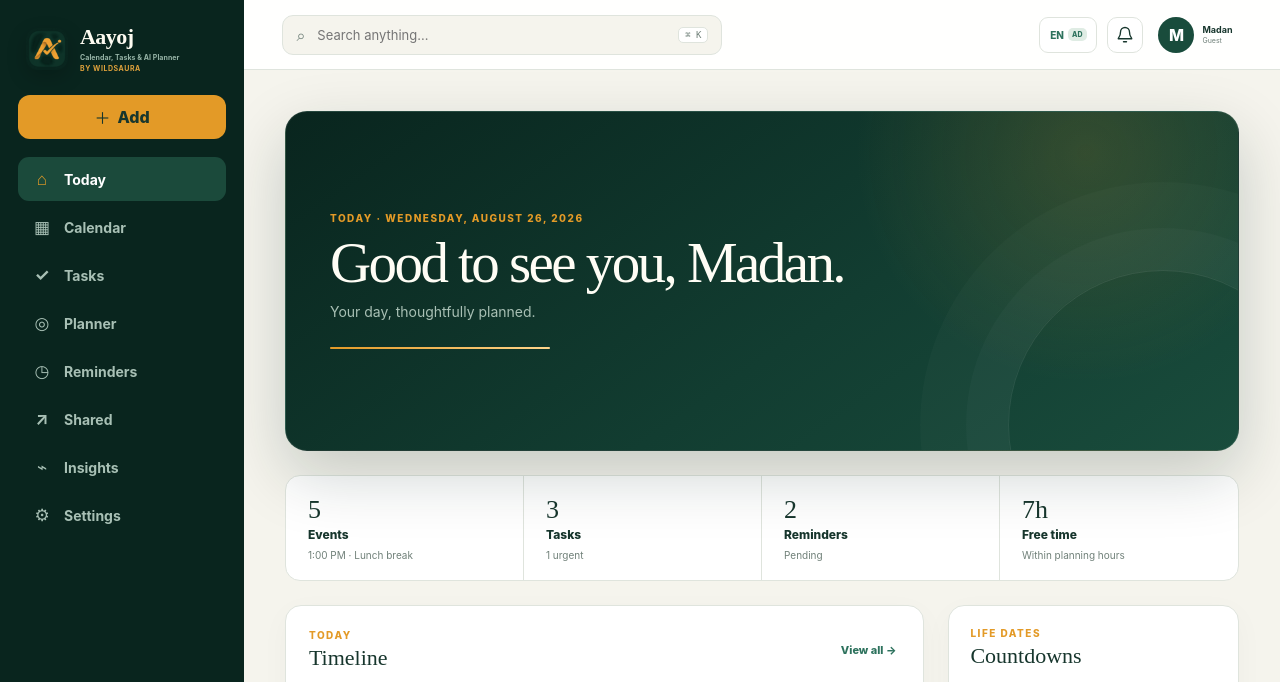
it: Aayoj application shell › opens the global quick-add confirmation flow
Click the button with class "sidebar-add" at [122, 117], box x1=18 y1=95 x2=226 y2=139
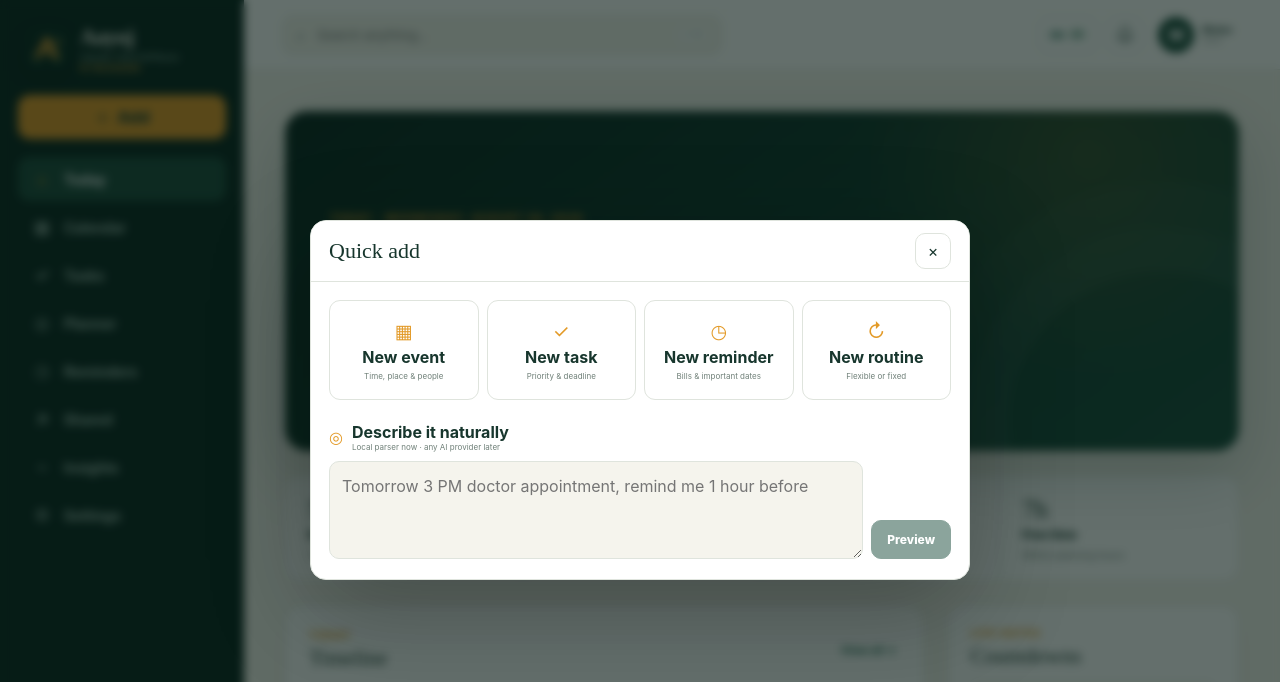
Result: the dialog is shown at x1=310 y1=220 x2=970 y2=580
Result: the element with class "natural-add" is shown at x1=311 y1=422 x2=969 y2=579
